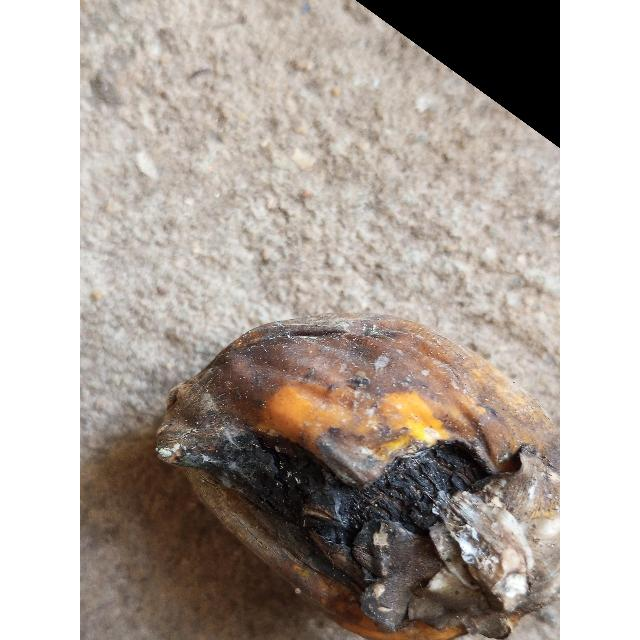damaged: (152, 315, 560, 640)
